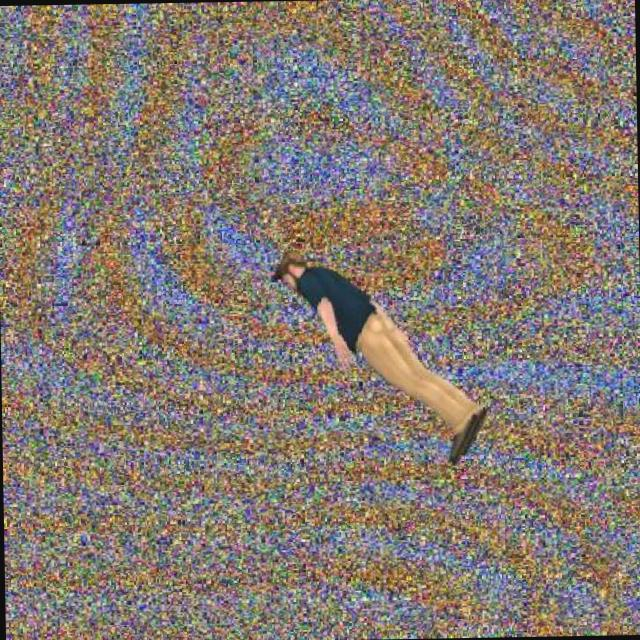Person: (271, 243, 492, 473)
